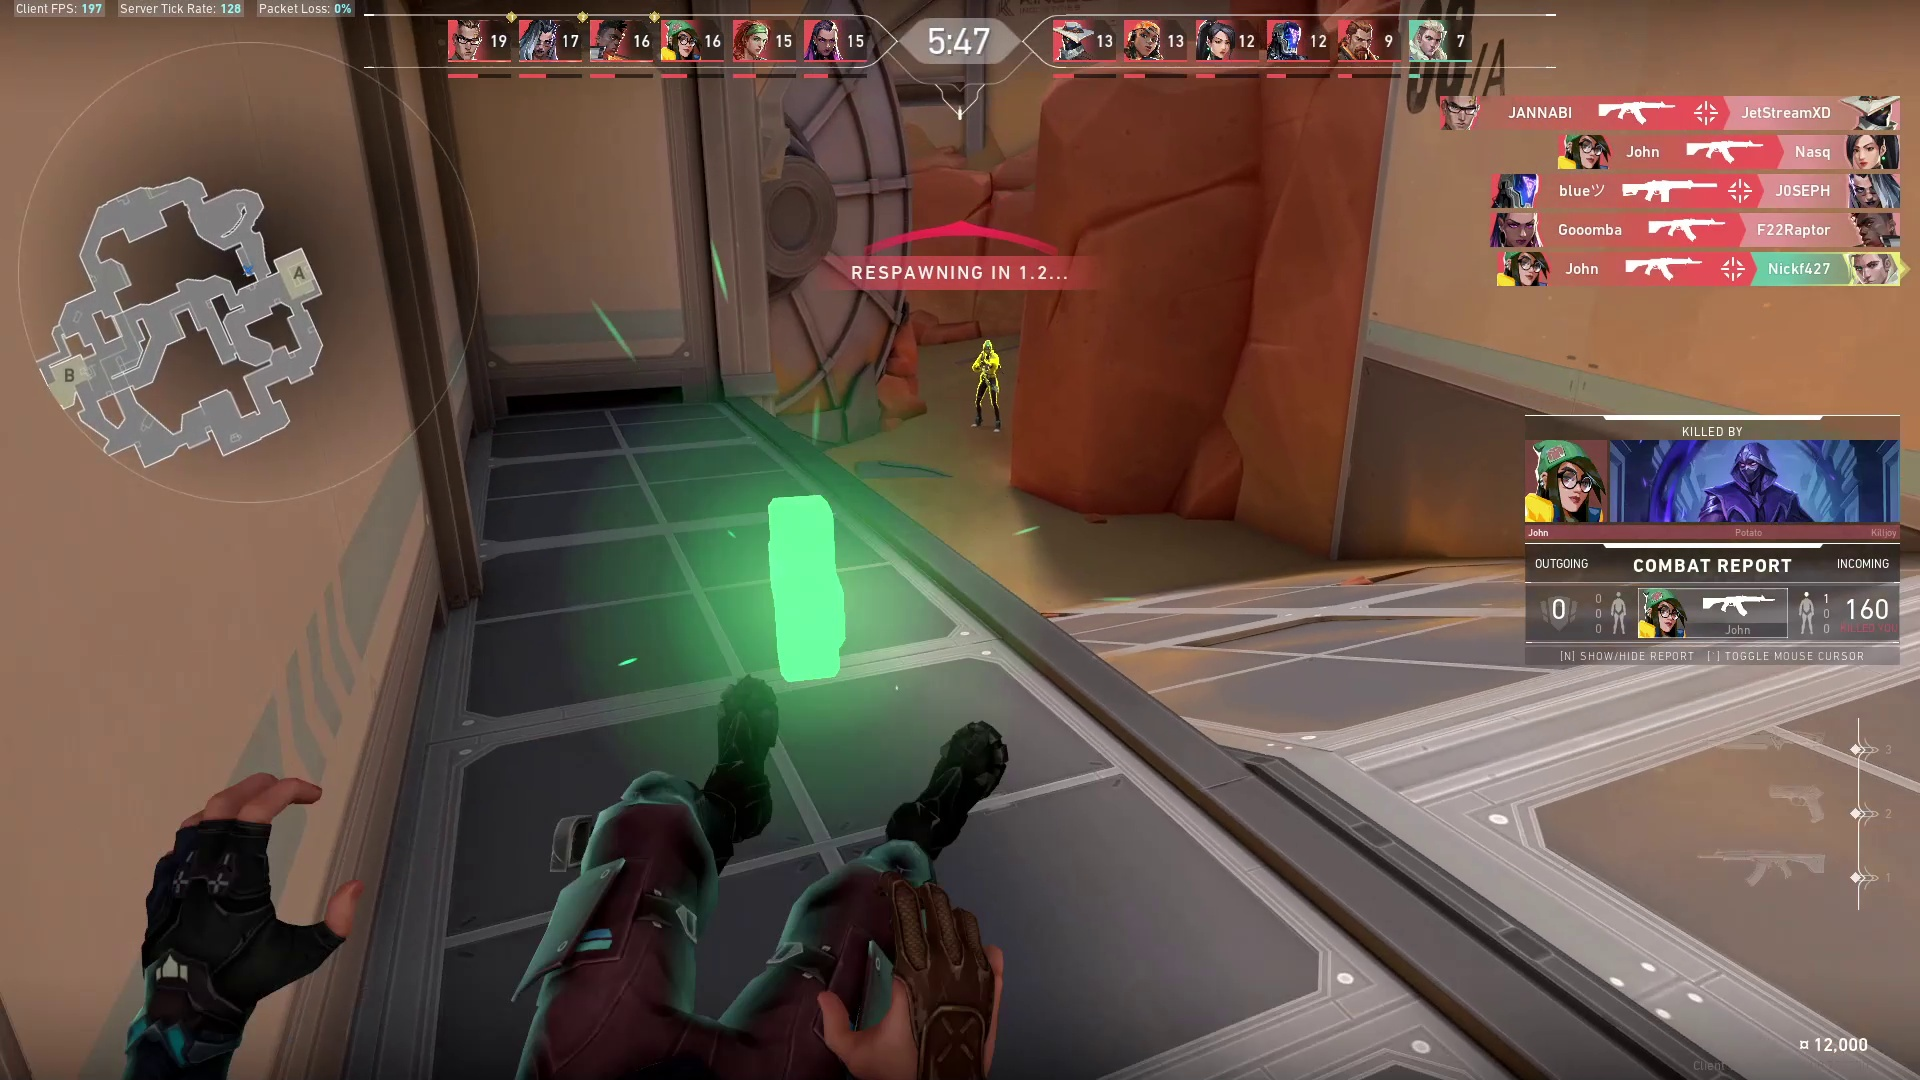enemy_body: (969, 353, 1006, 435)
enemy_head: (980, 338, 996, 354)
